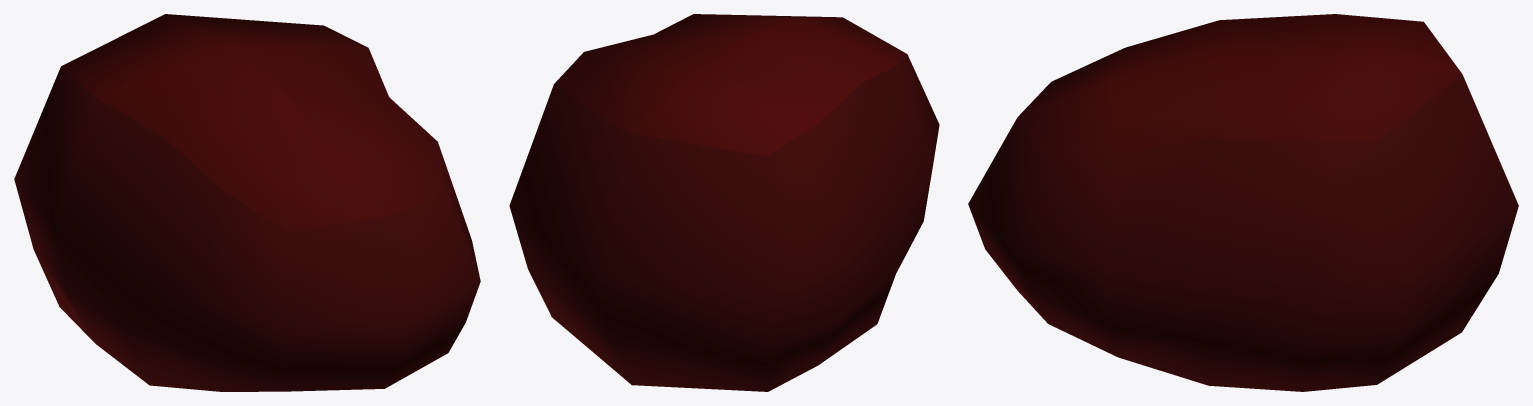
File: geology-pebbles-smalldirtchunk_v8.fbx
3 renders of one model, left to right at view 1: azimuth 30°, elevation 25°; view 2: azimuth 150°, elevation 25°; view 3: azimuth 270°, elevation 25°, orthographic. The views are drawn at different scales.
Parts seen in each view (by area): view 1: SmallDirtChunk_v8; view 2: SmallDirtChunk_v8; view 3: SmallDirtChunk_v8.
Boxes of the visible parts, x1=… form: SmallDirtChunk_v8: x1=14, y1=14, x2=480, y2=391; SmallDirtChunk_v8: x1=509, y1=14, x2=939, y2=391; SmallDirtChunk_v8: x1=968, y1=14, x2=1518, y2=391.
Bounding box in the file's own units: 2.3 × 1.92 × 3.3.
